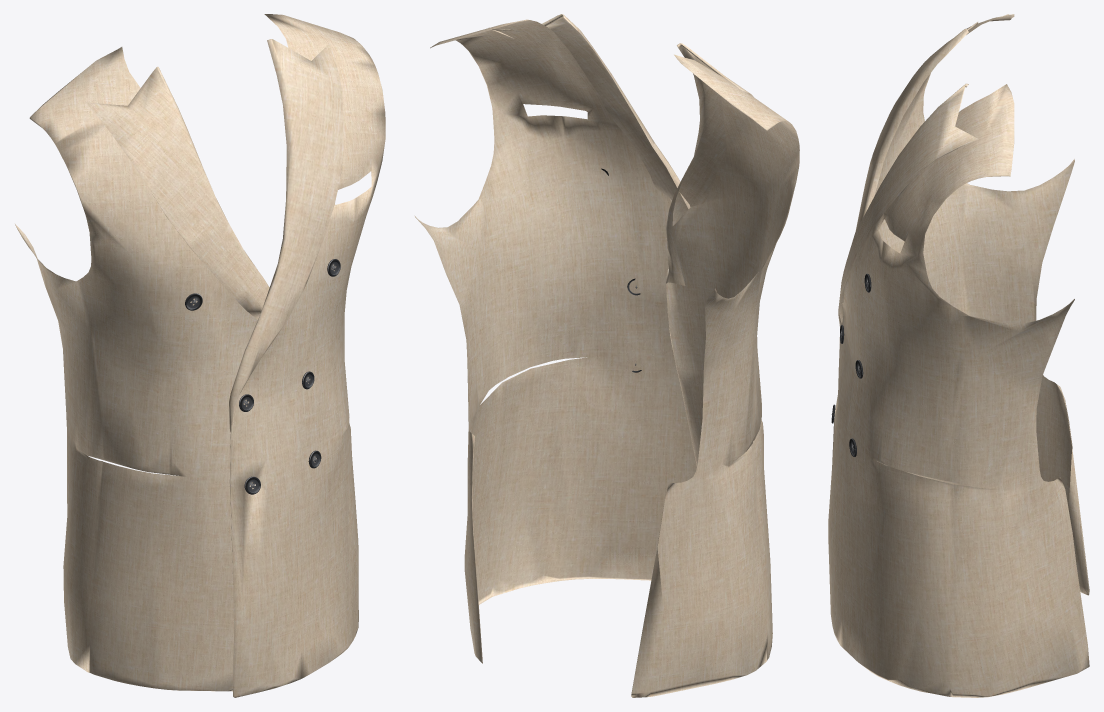
The model's file is peakdoublebreasted_new.glb.
3 views of the same model, side by side, from view 1: azimuth 30°, elevation 25°; view 2: azimuth 150°, elevation 25°; view 3: azimuth 270°, elevation 25° (orthographic). The views are drawn at different scales.
Visible parts, largest first — view 1: peak_double_breasted_suit1, double_breasted_buttons; view 2: peak_double_breasted_suit1; view 3: peak_double_breasted_suit1, double_breasted_buttons.
Boxes of the visible parts, <box> form: peak_double_breasted_suit1: <box>15,14,385,697</box>; double_breasted_buttons: <box>185,259,340,494</box>; peak_double_breasted_suit1: <box>414,14,799,697</box>; peak_double_breasted_suit1: <box>828,14,1089,697</box>; double_breasted_buttons: <box>831,273,871,456</box>.
Size of the model in its own units: 0.0585 by 0.1021 by 0.0413.
Materials: 3 (2 with a texture image).
